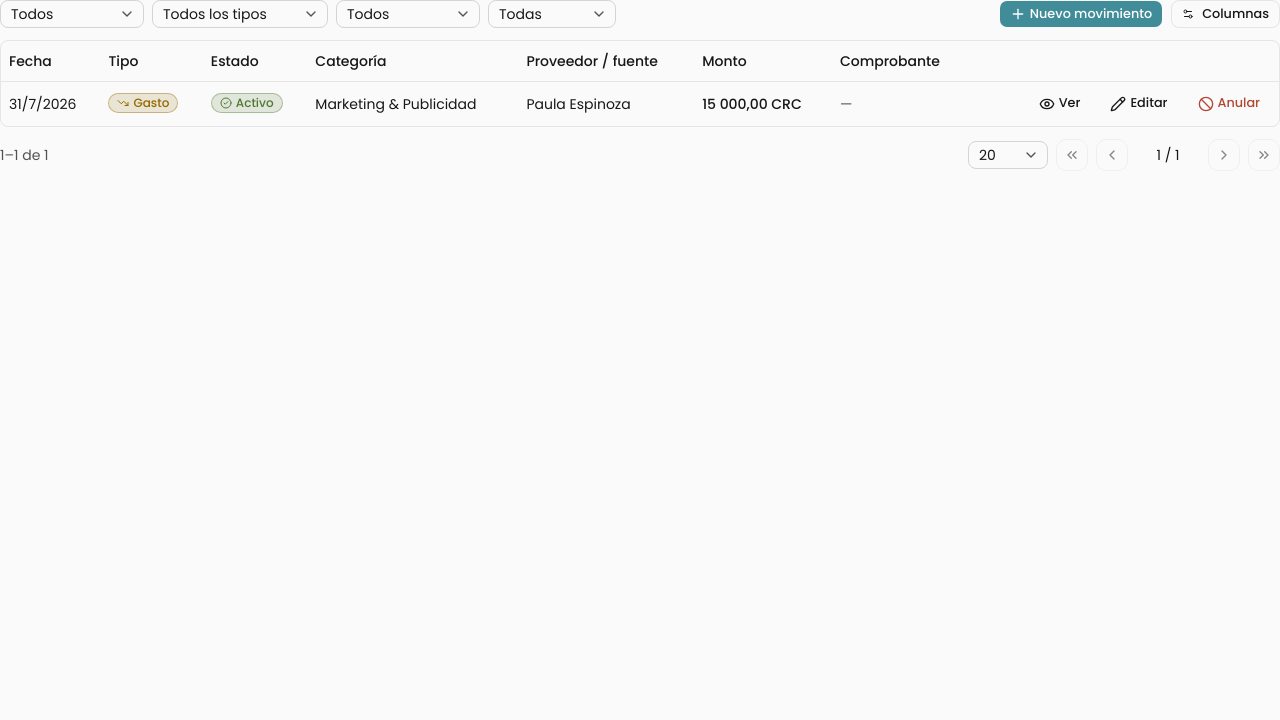
Test case: FinanceEntriesTable — el click en la fila abre el detalle, no la edición › abre un modal con los datos del movimiento y no navega
Click the text "Paula Espinoza". click: (43, 104)
box: [1,81,1279,126]
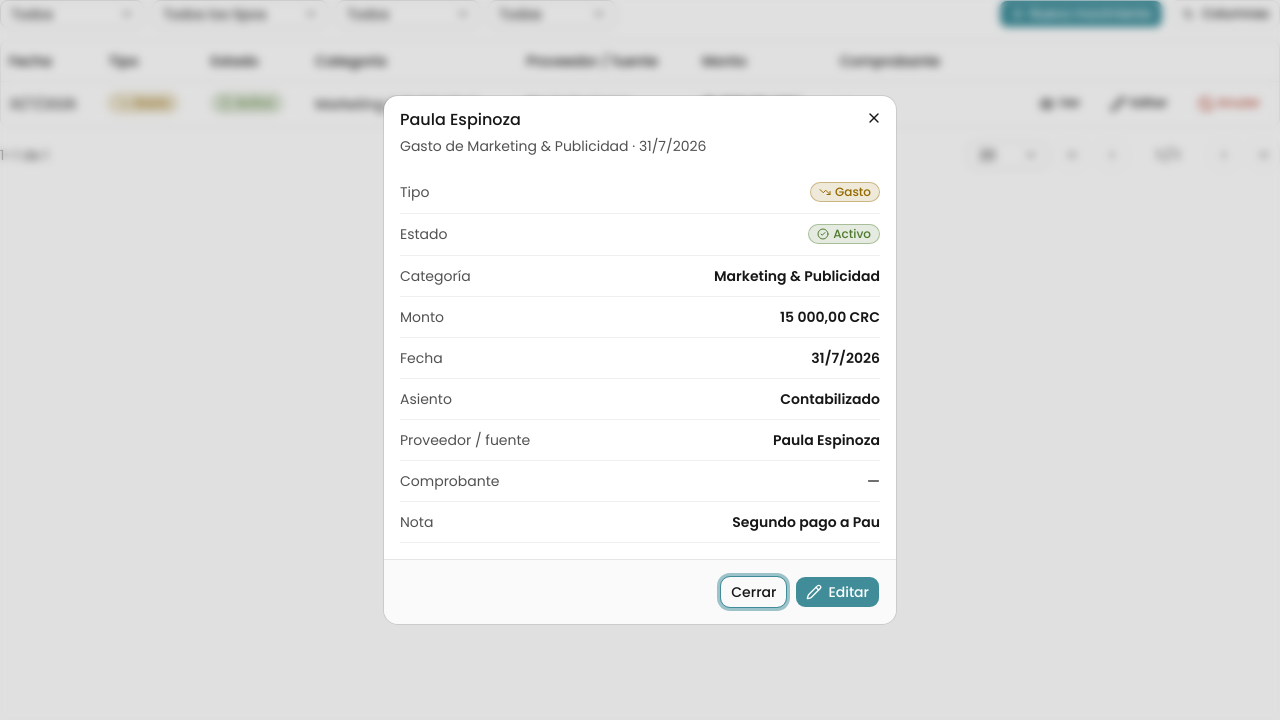
Result: the dialog is shown at [384,96,896,624]
Result: the heading "Paula Espinoza" is shown at [400,108,521,131]
Result: the text "Marketing & Publicidad" is shown at [714,266,880,286]
